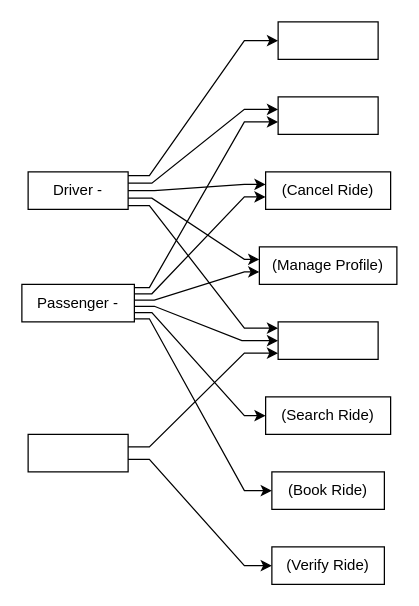
Some shapes in this 419 by 606 pixel diagram are drawn without their labels. The shapes that lost their labels are listed below. From the top down, each one's centre as x and y in pixels, then its label:
At point (327, 40): "(List Ride)".
At point (327, 115): "(Register)".
At point (327, 340): "(Login)".
At point (77, 452): "Admin -".
